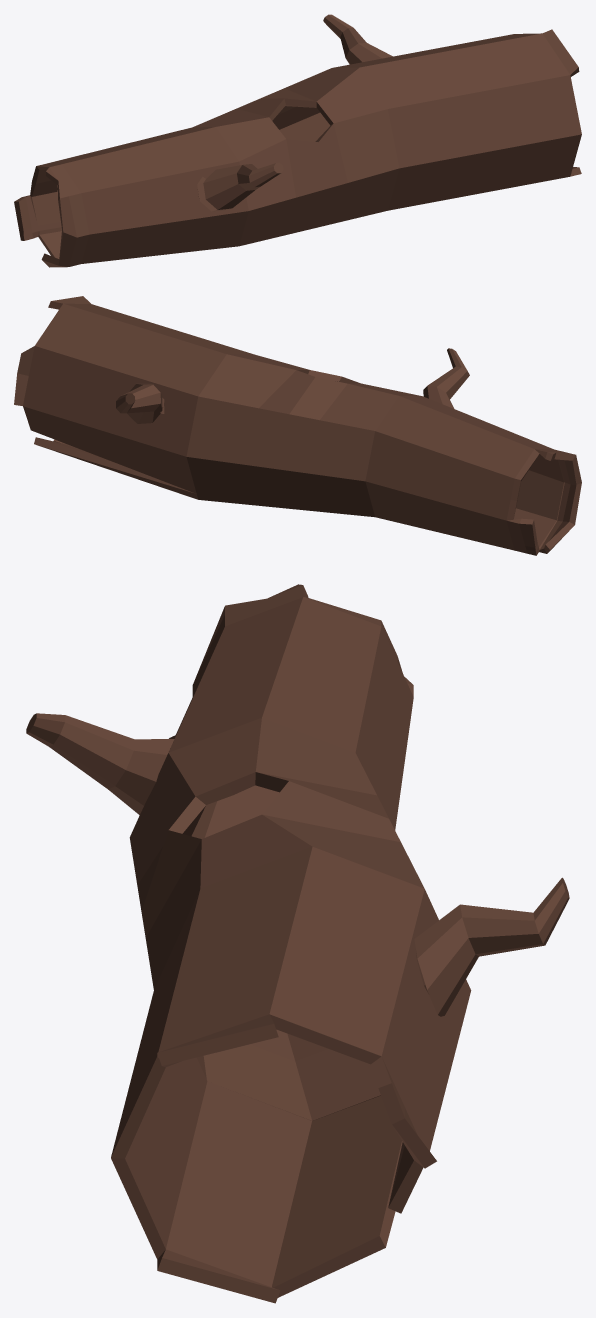
The model's file is log.fbx.
The picture shows the model from 3 angles, top to bottom: view 1: azimuth 30°, elevation 25°; view 2: azimuth 150°, elevation 25°; view 3: azimuth 270°, elevation 25°; orthographic projection. The views are drawn at different scales.
Visible parts, largest first — view 1: Circle; view 2: Circle; view 3: Circle.
Part boxes in pixels (<box>): Circle: <box>14,14,581,267</box>; Circle: <box>14,296,581,555</box>; Circle: <box>26,584,569,1303</box>.
Bounding box in the file's own units: 739 × 201 × 342.
